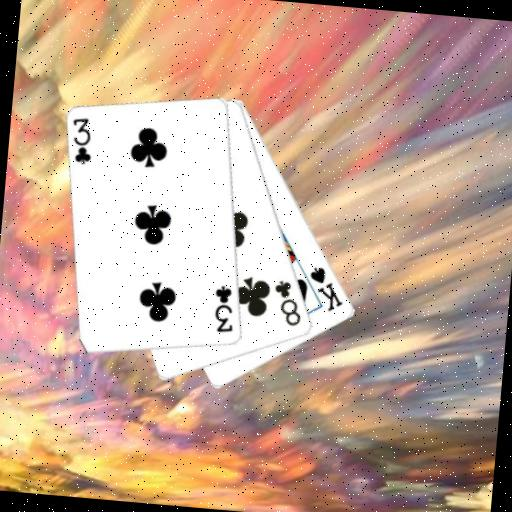3C: (209, 283, 239, 336), (67, 115, 97, 168)
8C: (268, 277, 306, 329)
KS: (304, 263, 348, 315)
